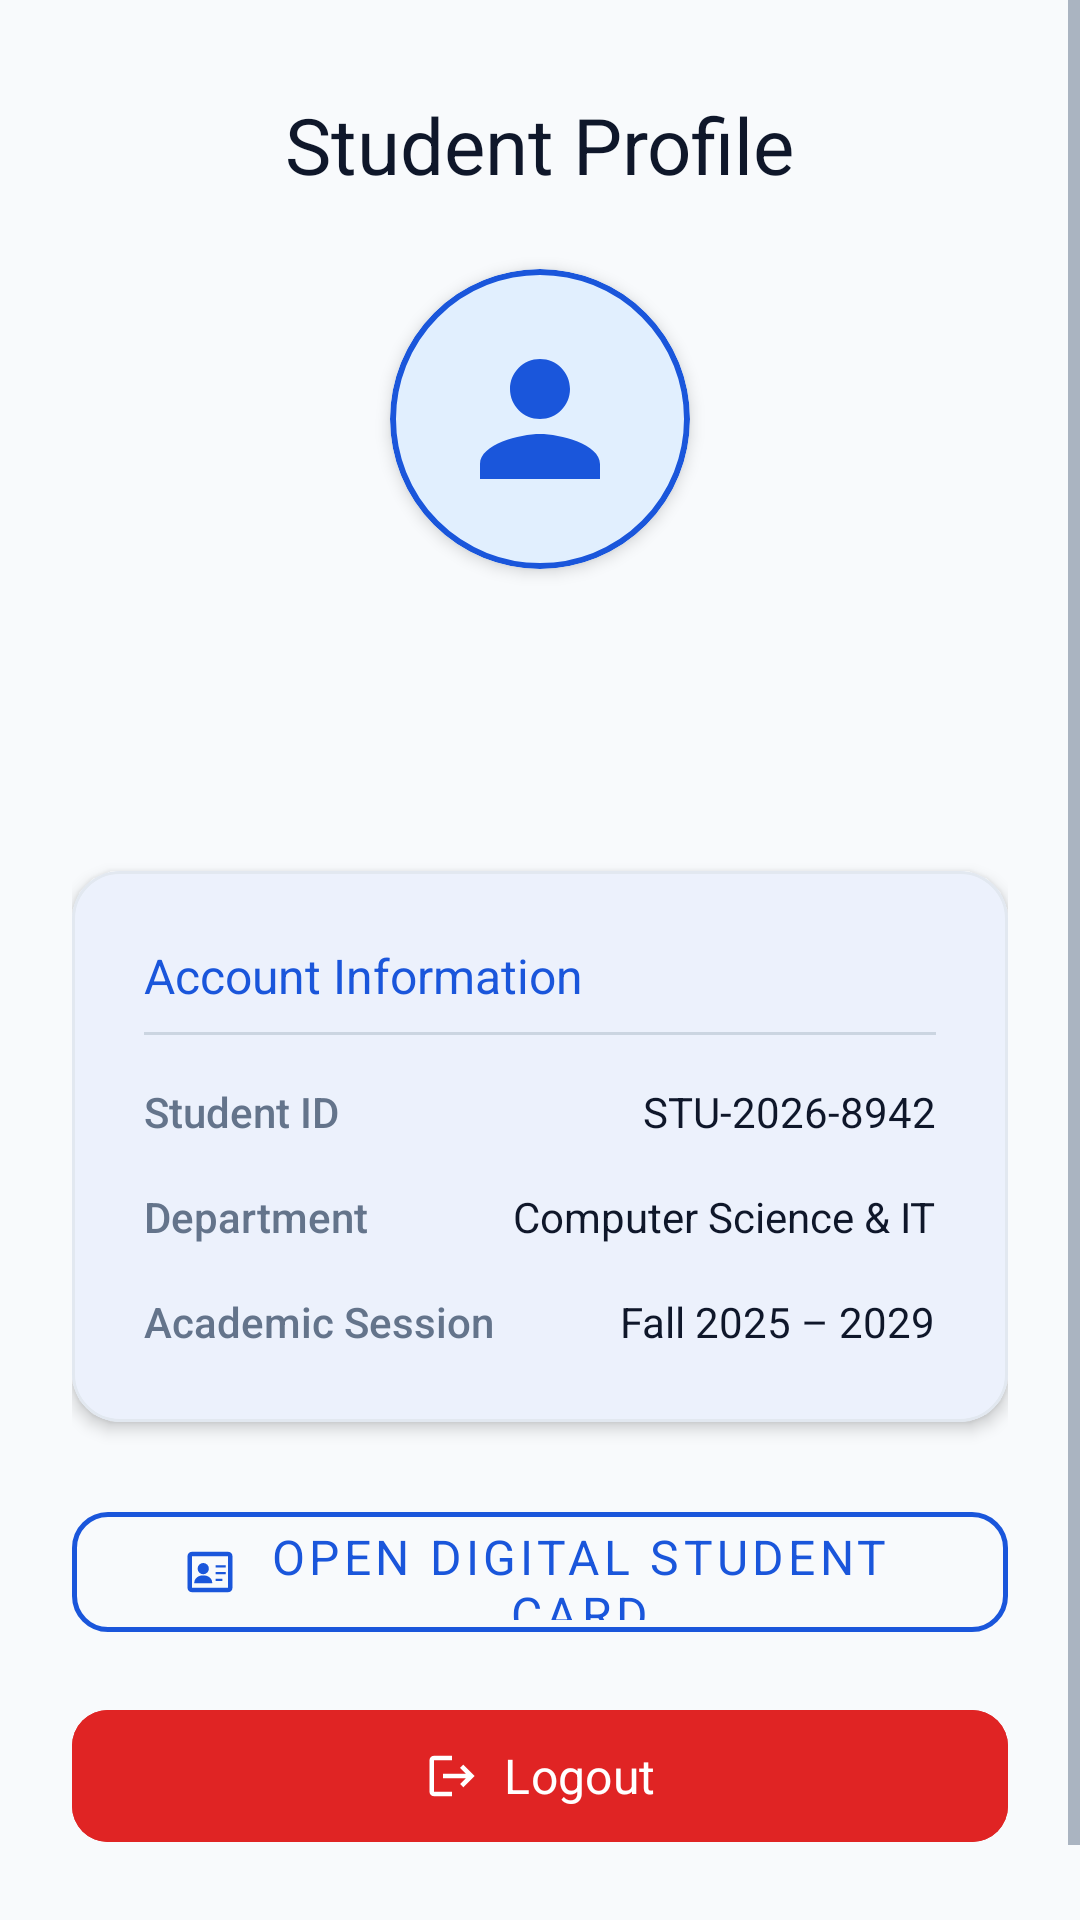

Locate icon controls on the screen. Image size 1080×1920, boxes as [left=x1, top=y1, right=x2, bottom=y2].
User Profile Avatar: [left=480, top=359, right=600, bottom=479]
